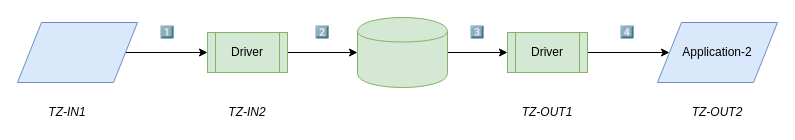
This 795x140 diagram has some shape labels left out. Each missing label, with the box of its shape:
Application-1: (16, 22, 138, 82)
MySQL: (356, 16, 448, 88)
